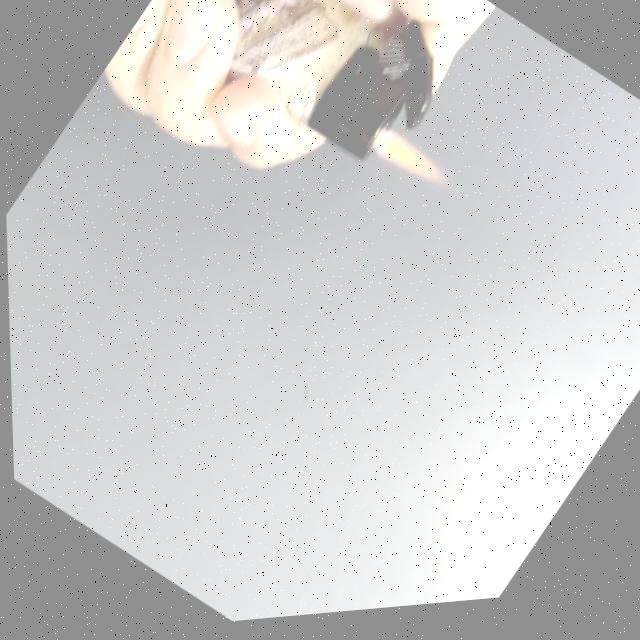Fire: (366, 125, 454, 209)
